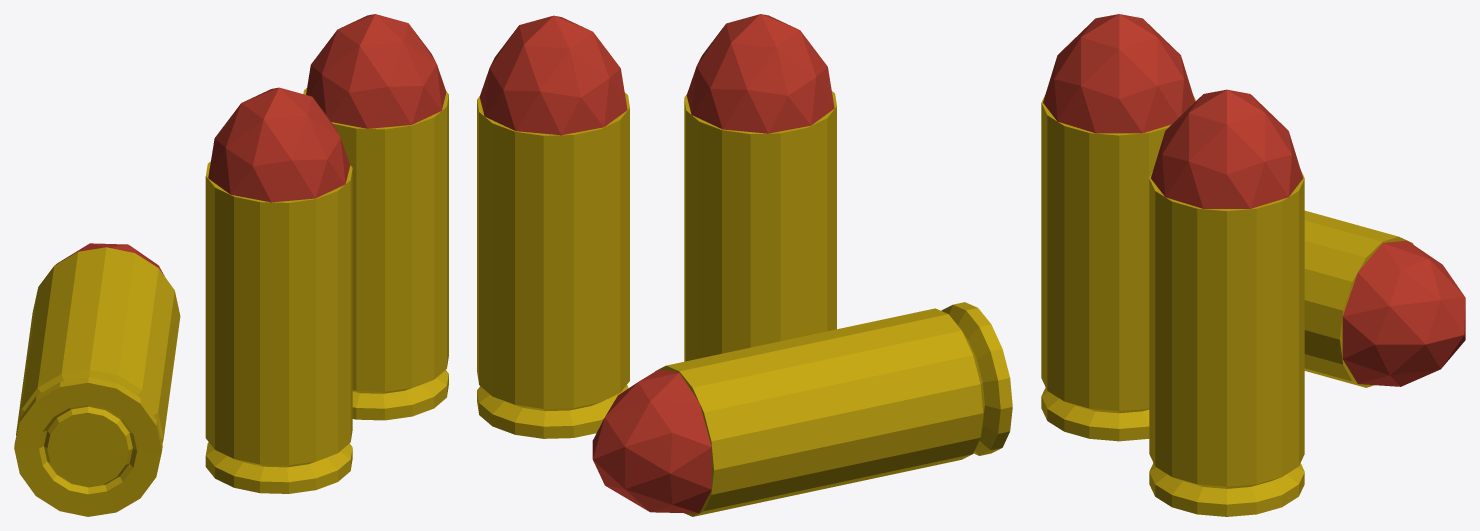
The model's file is bullets.glb.
3 renders of one model, left to right at view 1: azimuth 30°, elevation 25°; view 2: azimuth 150°, elevation 25°; view 3: azimuth 270°, elevation 25°, orthographic. The views are drawn at different scales.
Visible parts, largest first — view 1: Cylinder001, Cylinder002, Cylinder, Icosphere001, Icosphere; view 2: Cylinder002, Cylinder, Cylinder001, Icosphere, Icosphere001, Icosphere002; view 3: Cylinder, Cylinder001, Icosphere002, Icosphere, Icosphere001, Cylinder002.
Boxes of the visible parts, <box> form: Cylinder001: <box>205,161,352,493</box>; Cylinder002: <box>14,247,180,516</box>; Cylinder: <box>303,88,448,420</box>; Icosphere001: <box>208,87,350,202</box>; Icosphere: <box>306,14,446,128</box>; Cylinder002: <box>655,302,1012,516</box>; Cylinder: <box>477,92,629,438</box>; Cylinder001: <box>684,91,836,361</box>; Icosphere: <box>479,15,627,135</box>; Icosphere001: <box>686,14,834,133</box>; Icosphere002: <box>592,369,711,513</box>; Cylinder: <box>1149,171,1304,516</box>; Cylinder001: <box>1041,94,1195,441</box>; Icosphere002: <box>1342,240,1465,386</box>; Icosphere: <box>1151,89,1303,208</box>; Icosphere001: <box>1043,14,1195,133</box>; Cylinder002: <box>1304,210,1413,387</box>.
Bounding box in the file's own units: 0.5587 × 0.4308 × 0.4198.
